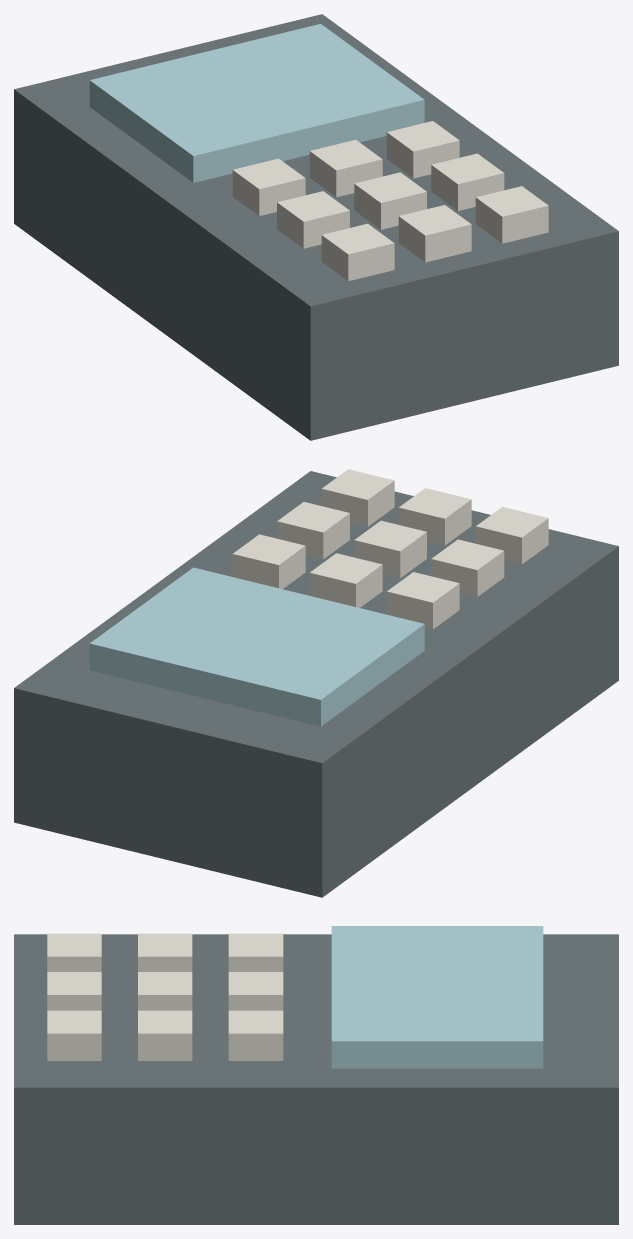
Rendered from supermarket-operations-card-terminal-554d756b__26782.glb.
3 renders of one model, top to bottom at view 1: azimuth 30°, elevation 25°; view 2: azimuth 150°, elevation 25°; view 3: azimuth 270°, elevation 25°, orthographic.
Parts seen in each view (by area): view 1: card-terminal; view 2: card-terminal; view 3: card-terminal.
Part boxes in pixels (bbox=[...]): card-terminal: bbox=[14, 14, 618, 440]; card-terminal: bbox=[14, 469, 618, 897]; card-terminal: bbox=[14, 926, 618, 1224].
Size of the model in its own units: 0.12 by 0.06 by 0.2.
